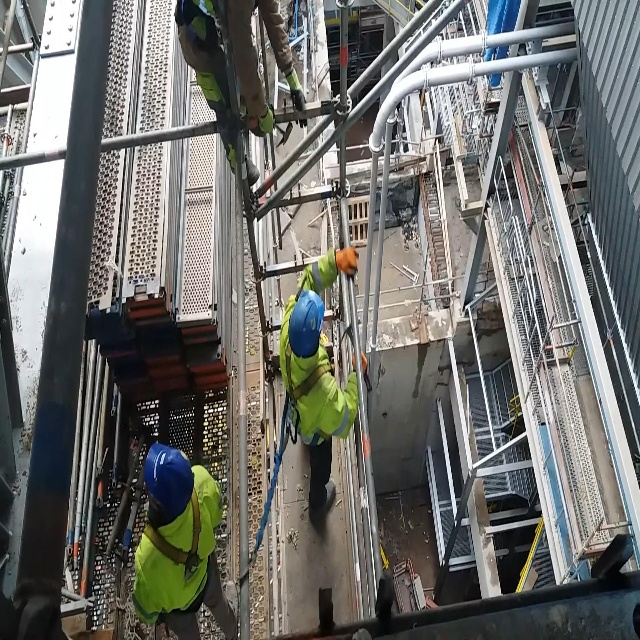Arnes_seguridad: (131, 496, 226, 618), (273, 327, 335, 448)
